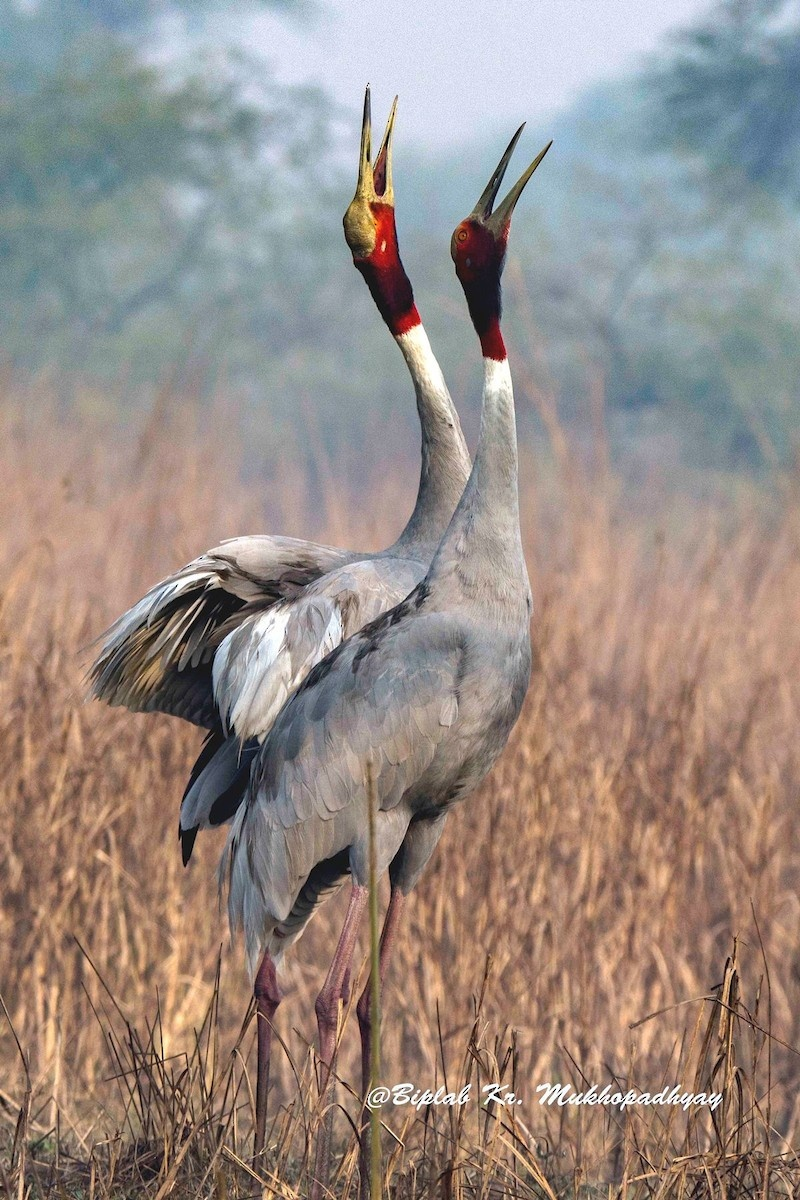crane: (85, 76, 425, 1113), (435, 120, 571, 746)
